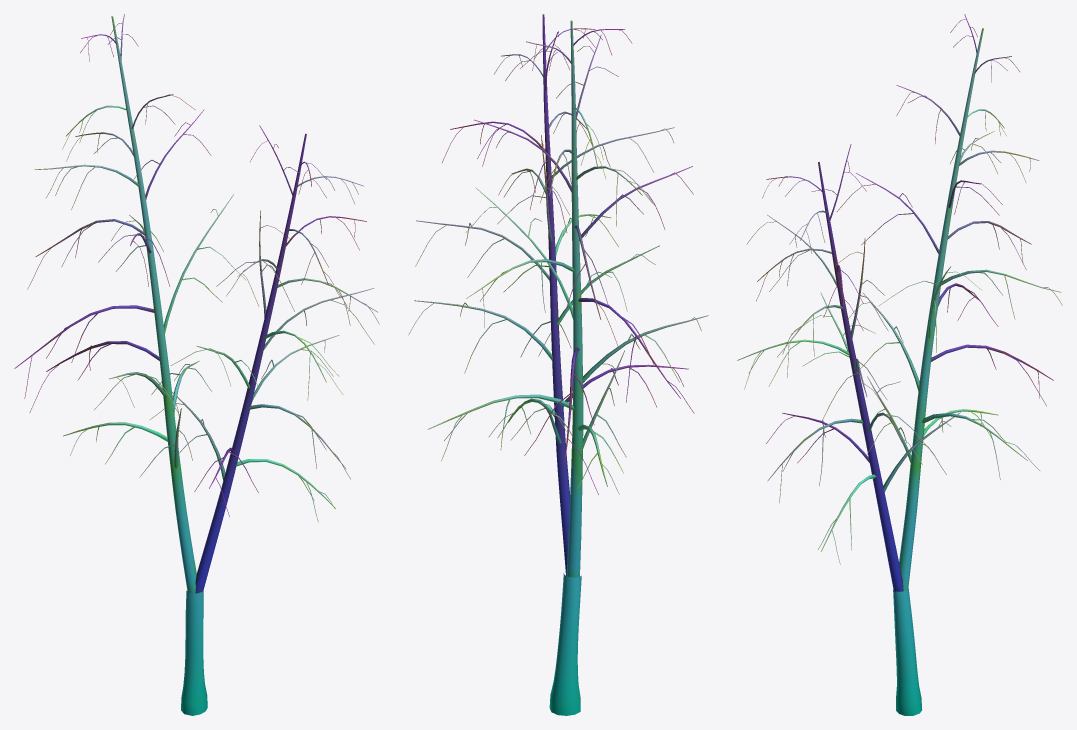
Rendered from birch-grove-c.glb.
3 views of the same model, side by side, from view 1: azimuth 30°, elevation 25°; view 2: azimuth 150°, elevation 25°; view 3: azimuth 270°, elevation 25° (orthographic). The views are drawn at different scales.
Visible parts, largest first — view 1: bark; view 2: bark; view 3: bark.
Part boxes in pixels (x1,y1,x2,y2): bark: (14, 14, 379, 715); bark: (408, 14, 708, 715); bark: (737, 14, 1062, 715).
Bounding box in the file's own units: 7.81 × 16.63 × 7.42.
